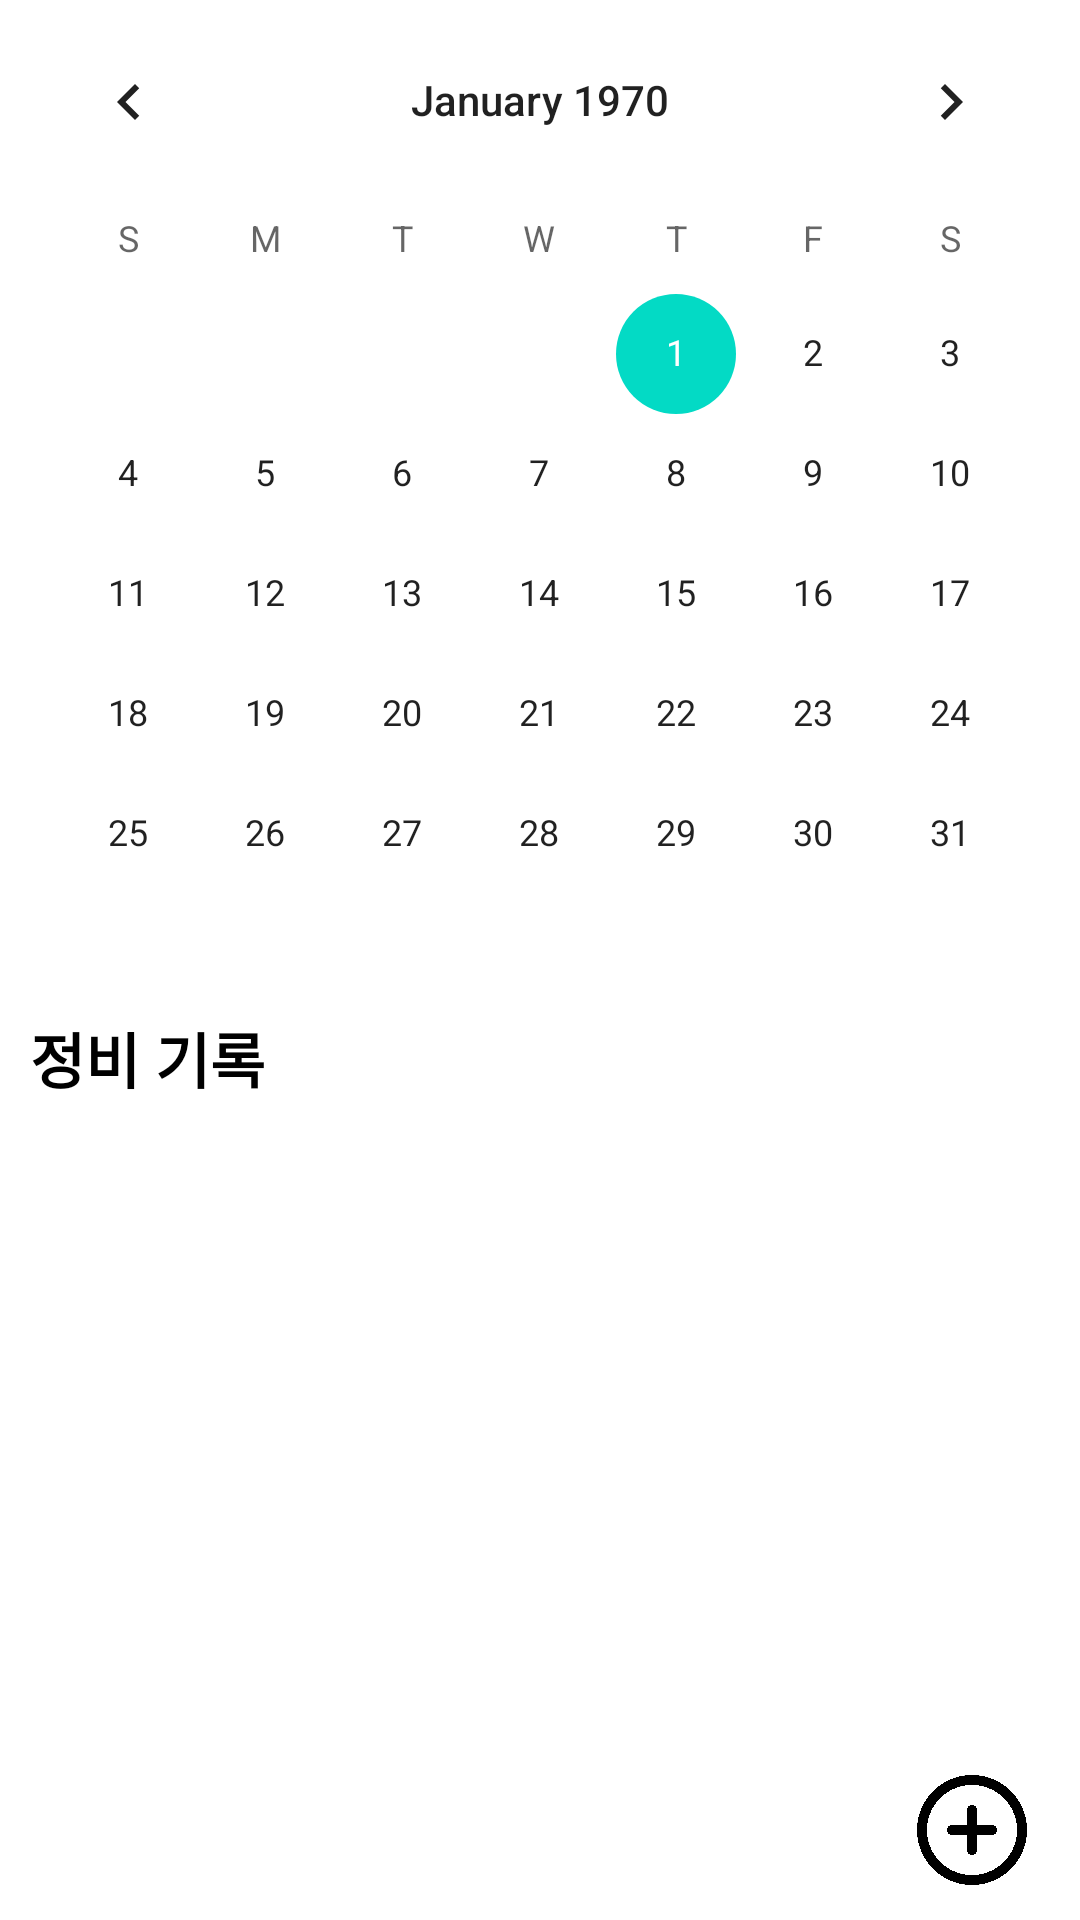

Icons on this 1080px x 1920px Android screen, each with the point to tap as (x,y):
bike regist: (972,1830)
